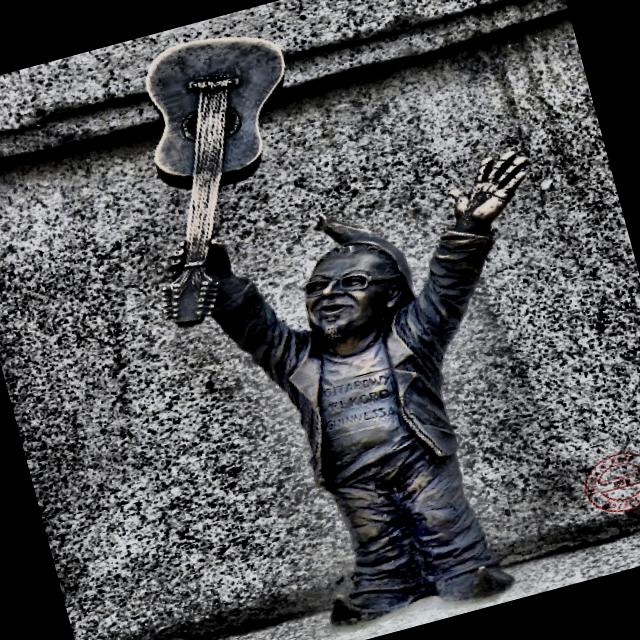Leszko_z_Wroclawia: (144, 37, 525, 626)
